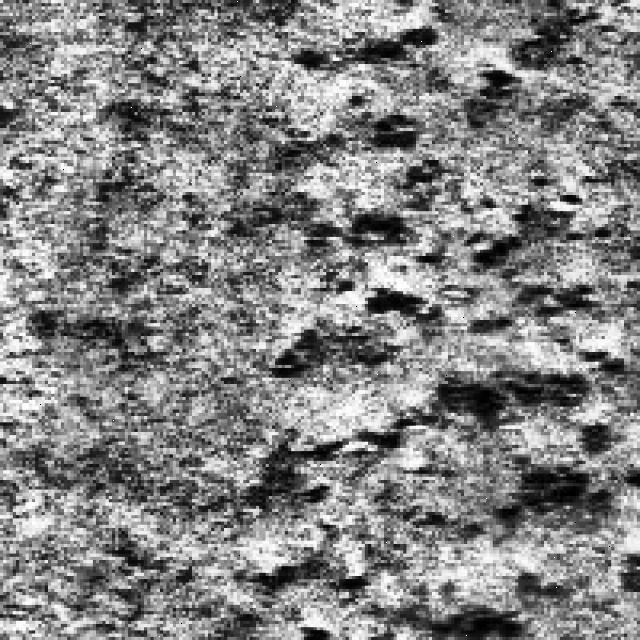Crazing: (285, 112, 637, 608)
